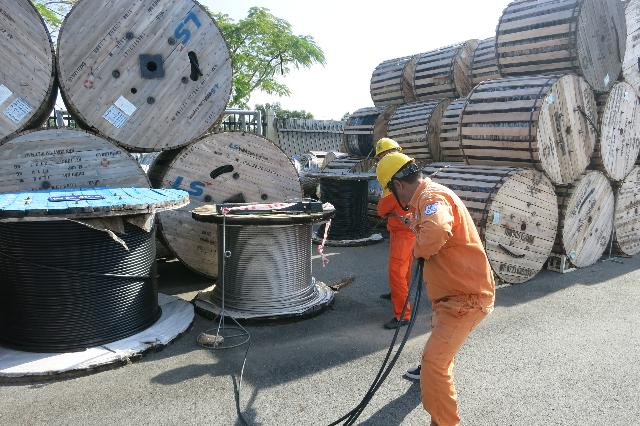helmet: (368, 153, 420, 189), (372, 127, 404, 152)
shoes: (378, 313, 416, 330), (405, 362, 436, 382), (374, 289, 408, 302)
